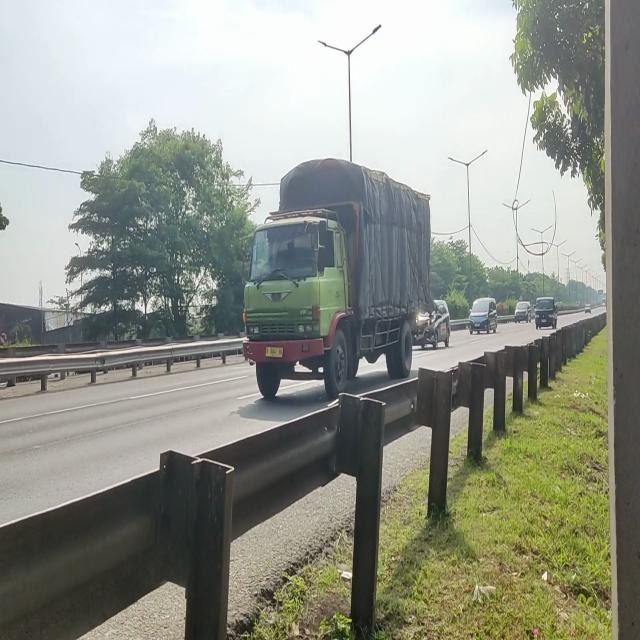Golongan II: (238, 185, 432, 412)
